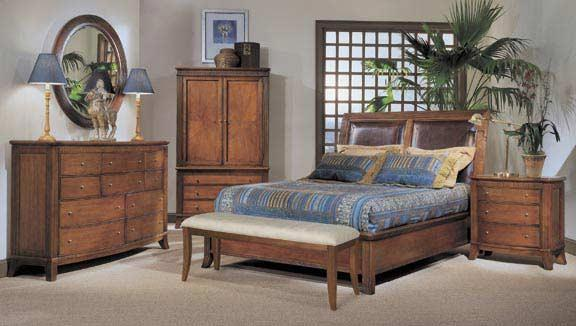Armario: (41, 145, 168, 257), (179, 67, 270, 179)
Cama: (248, 118, 469, 235)
Matera: (504, 78, 557, 176)
